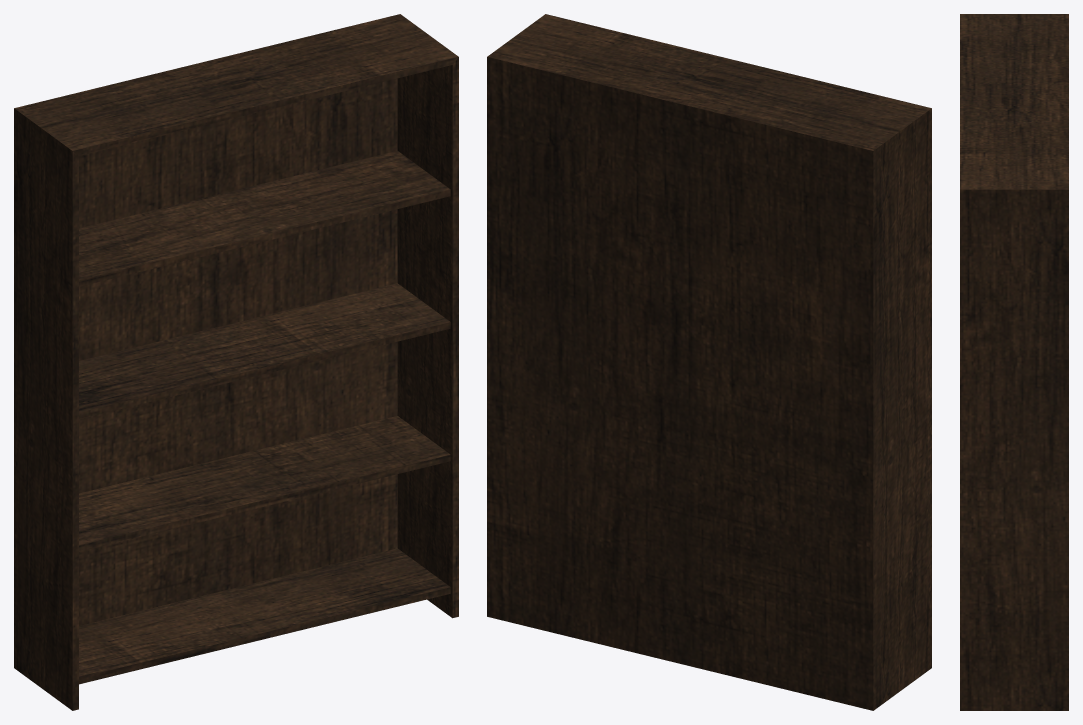
File: shelf_mp_5_1.dae
3 views of the same model, side by side, from view 1: azimuth 30°, elevation 25°; view 2: azimuth 150°, elevation 25°; view 3: azimuth 270°, elevation 25° (orthographic). The views are drawn at different scales.
Visible parts, largest first — view 1: shelf_mp_5_1; view 2: shelf_mp_5_1; view 3: shelf_mp_5_1.
Part boxes in pixels (left/top/right/bottom): shelf_mp_5_1: left=14, top=14, right=458, bottom=710; shelf_mp_5_1: left=487, top=14, right=931, bottom=710; shelf_mp_5_1: left=960, top=14, right=1068, bottom=710.
Bounding box in the file's own units: 1.22 × 0.32 × 1.69.
Materials: 1 (1 with a texture image).
